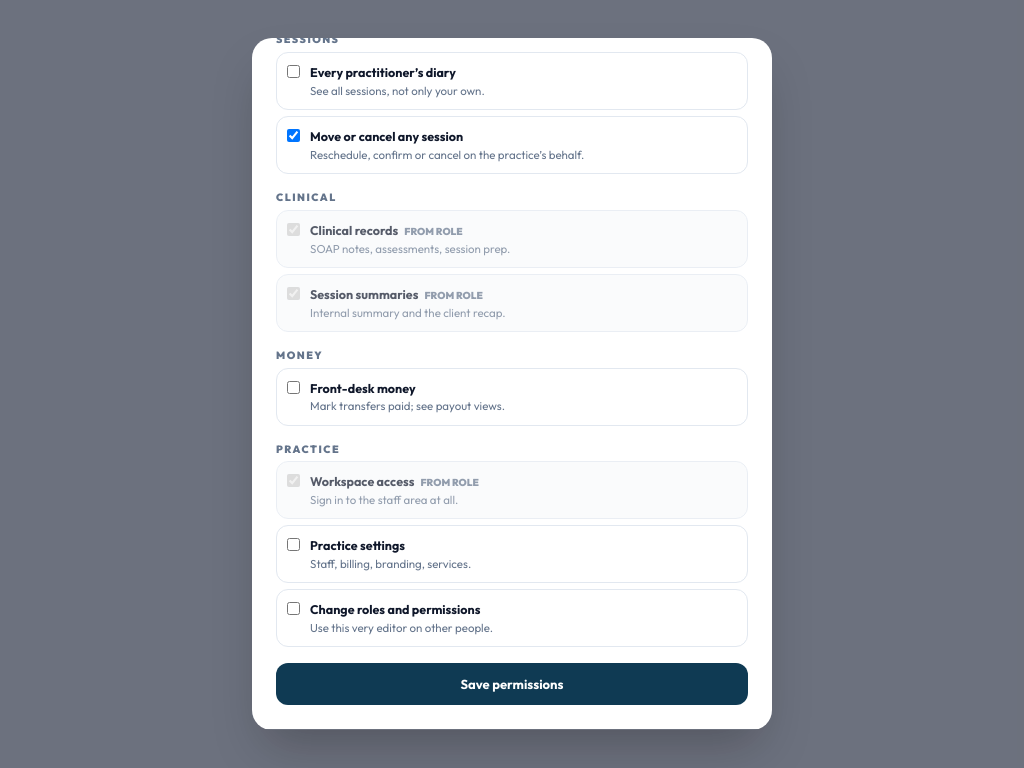
PermissionsDialog › shows the server’s reason when saving fails
(page scrolled)
What coordinates should you click on to do the following:
click the button "Save permissions"
I would click on:
 (512, 684)
Its box is [276,663,748,705].
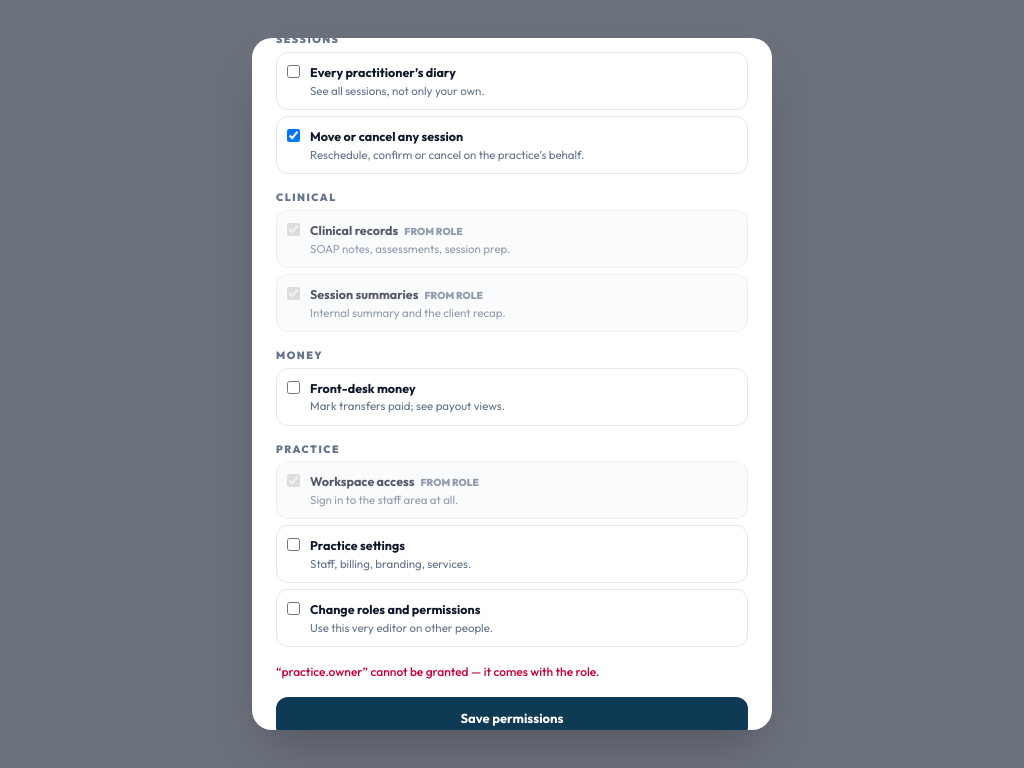
Result: the text "“practice.owner” cannot be granted — it comes with the role." is shown at [276,664,600,679]
